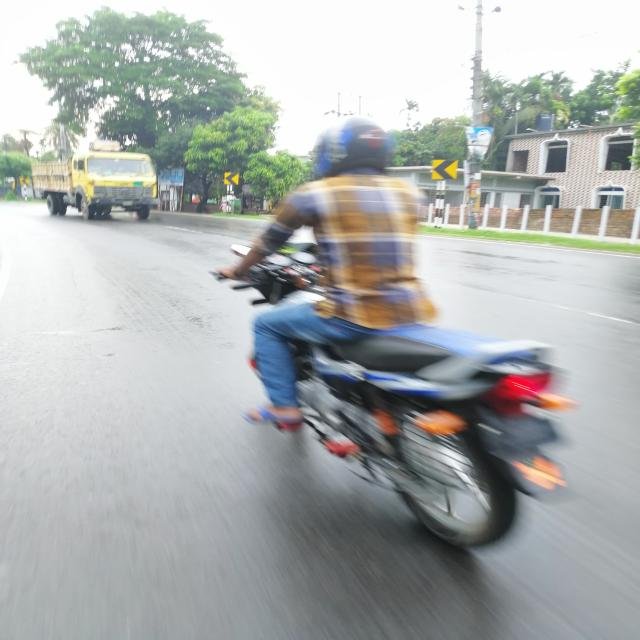Motorbike: (221, 230, 573, 560)
Truck: (26, 137, 173, 233)
